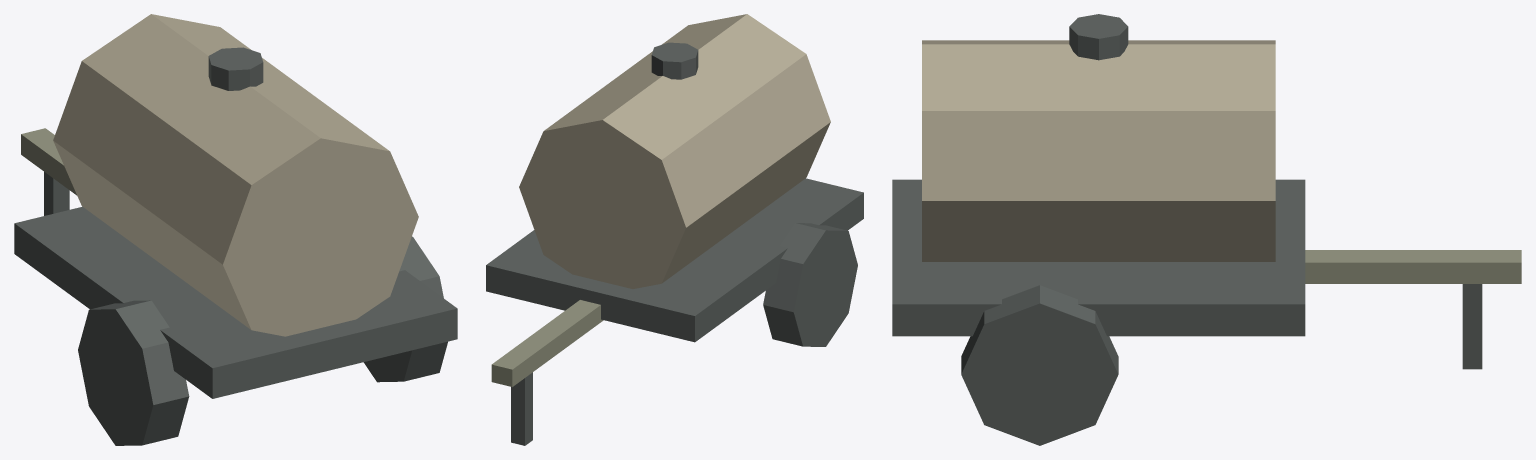
File: water-buffalo.glb
3 views of the same model, side by side, from view 1: azimuth 30°, elevation 25°; view 2: azimuth 150°, elevation 25°; view 3: azimuth 270°, elevation 25° (orthographic). The views are drawn at different scales.
Parts seen in each view (by area): view 1: water-buffalo-1, water-buffalo-0, water-buffalo-4, water-buffalo-5, water-buffalo-2, water-buffalo-3, water-buffalo-6; view 2: water-buffalo-1, water-buffalo-0, water-buffalo-4, water-buffalo-3, water-buffalo-2, water-buffalo-6; view 3: water-buffalo-1, water-buffalo-0, water-buffalo-5, water-buffalo-3, water-buffalo-2, water-buffalo-6.
Part boxes in pixels (<box>): water-buffalo-1: <box>53,14,418,336</box>; water-buffalo-0: <box>14,206,457,398</box>; water-buffalo-4: <box>78,300,189,445</box>; water-buffalo-5: <box>363,236,447,382</box>; water-buffalo-2: <box>208,47,263,90</box>; water-buffalo-3: <box>21,128,76,195</box>; water-buffalo-6: <box>44,172,69,215</box>; water-buffalo-1: <box>519,14,830,288</box>; water-buffalo-0: <box>486,178,863,342</box>; water-buffalo-4: <box>763,223,857,346</box>; water-buffalo-3: <box>491,300,603,386</box>; water-buffalo-2: <box>651,42,698,79</box>; water-buffalo-6: <box>511,372,532,445</box>; water-buffalo-1: <box>922,40,1275,261</box>; water-buffalo-0: <box>892,179,1305,336</box>; water-buffalo-5: <box>961,285,1118,445</box>; water-buffalo-3: <box>1305,250,1521,283</box>; water-buffalo-2: <box>1069,14,1128,60</box>; water-buffalo-6: <box>1462,284,1482,369</box>.
Size of the model in its own units: 1.82 by 1.93 by 3.2.
